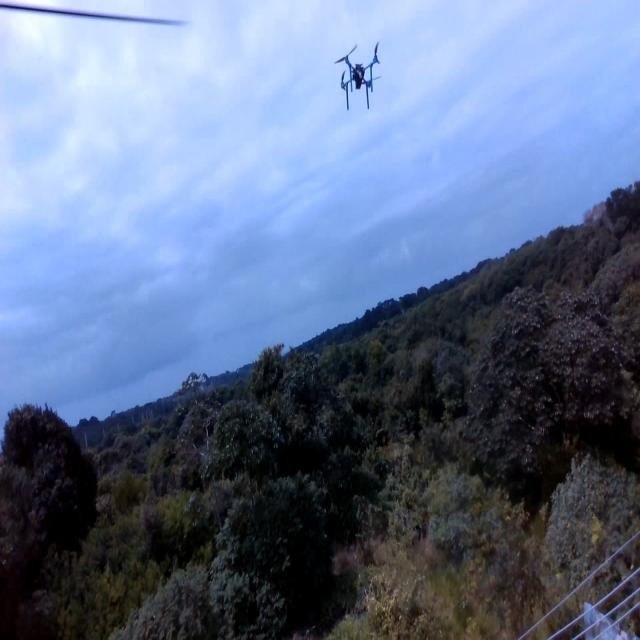-uav-: (330, 40, 389, 117)
